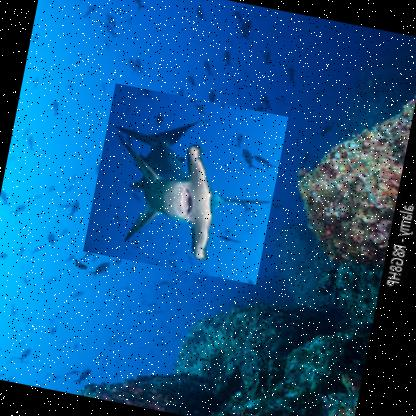hammerhead_Shark: (81, 83, 288, 286)
